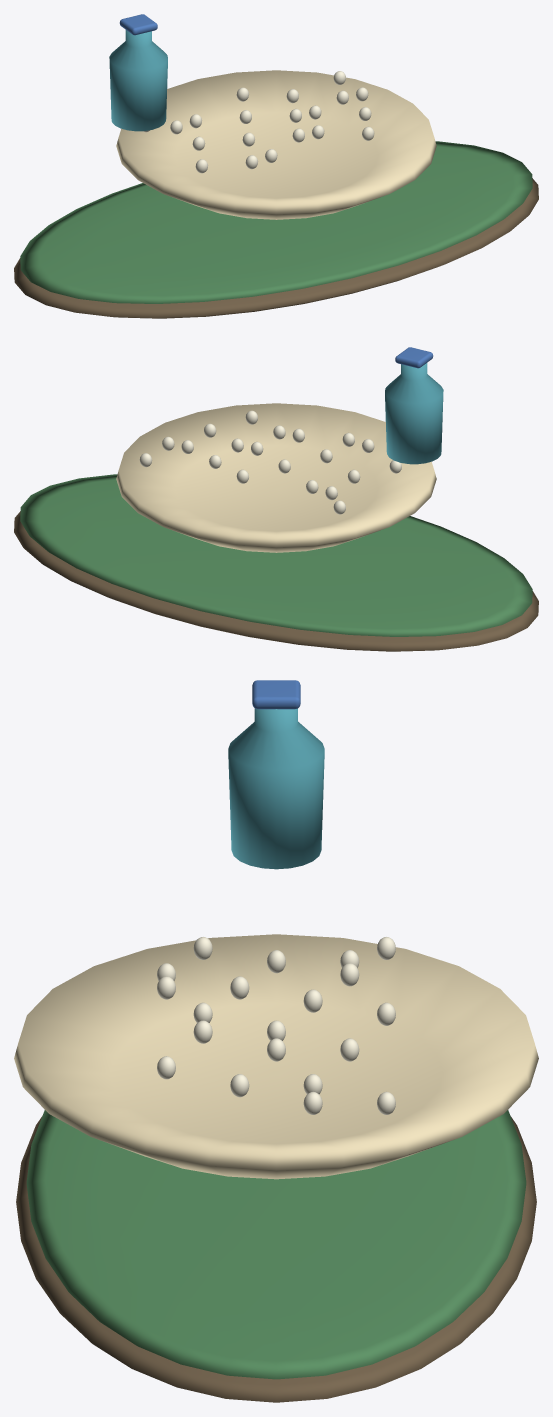
File: salt.glb
The picture shows the model from 3 angles, top to bottom: view 1: azimuth 30°, elevation 25°; view 2: azimuth 150°, elevation 25°; view 3: azimuth 270°, elevation 25°; orthographic projection. The views are drawn at different scales.
Parts seen in each view (by area): view 1: salt_surface_01, salt_surface_03, salt_surface_00, salt_surface_04, salt_surface_02, salt_surface_05; view 2: salt_surface_01, salt_surface_03, salt_surface_00, salt_surface_04, salt_surface_02, salt_surface_05; view 3: salt_surface_03, salt_surface_01, salt_surface_00, salt_surface_04, salt_surface_02, salt_surface_05.
Part boxes in pixels (x1,y1,x2,y2): salt_surface_01: (20,141,532,303); salt_surface_03: (116,70,436,219); salt_surface_00: (14,178,538,318); salt_surface_04: (109,30,167,131); salt_surface_02: (143,71,374,173); salt_surface_05: (119,14,157,35); salt_surface_01: (20,474,532,636); salt_surface_03: (116,403,436,552); salt_surface_00: (14,511,538,651); salt_surface_04: (385,363,443,464); salt_surface_02: (139,410,401,514); salt_surface_05: (395,347,433,368); salt_surface_03: (14,934,538,1179); salt_surface_01: (26,1110,526,1379); salt_surface_00: (16,1117,536,1402); salt_surface_04: (228,708,324,869); salt_surface_02: (157,937,395,1114); salt_surface_05: (252,680,300,709).
Bounding box in the file's own units: 4.56 × 2.27 × 2.52.
